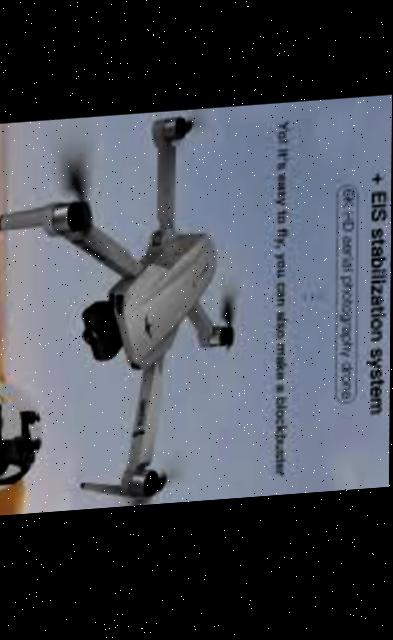drone: (0, 109, 247, 516)
